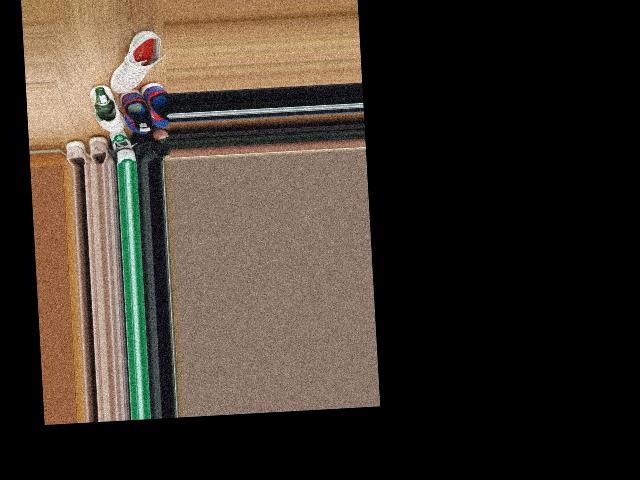beer: (93, 85, 115, 121)
